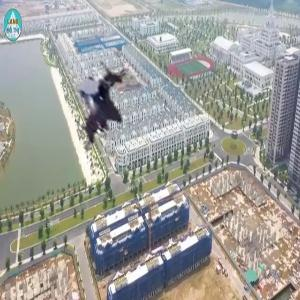drone: (58, 61, 162, 165)
